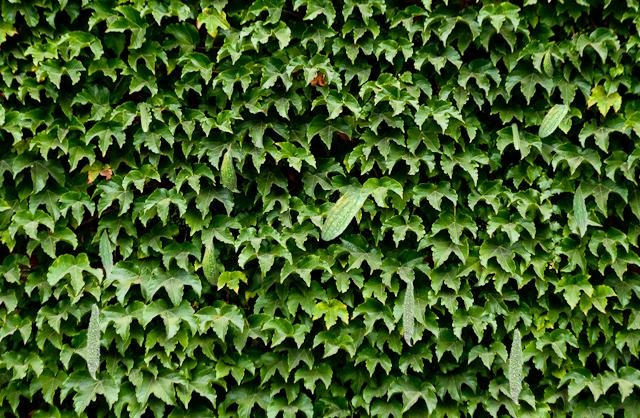ampalaya: (321, 191, 363, 241), (507, 327, 523, 405), (85, 302, 101, 380), (538, 103, 568, 138), (401, 278, 415, 346), (201, 235, 219, 286), (572, 185, 588, 238), (220, 143, 237, 191), (99, 228, 113, 278), (542, 46, 553, 77), (138, 102, 148, 132), (511, 122, 520, 150)
